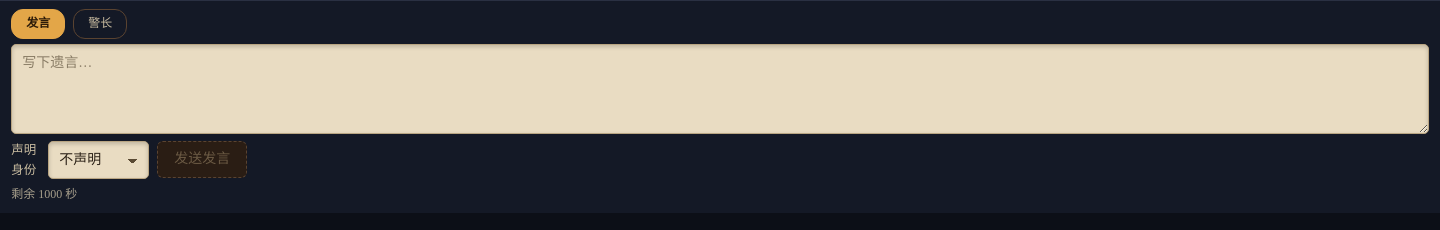
Test: ActionBar › 死亡警长的普通遗言窗口不展示移交 / 撕警徽
Expected: the text box named "发言内容" is shown, [11,44,1429,134]
Click the tab "警长" at (100, 24), box [73,9,127,39]
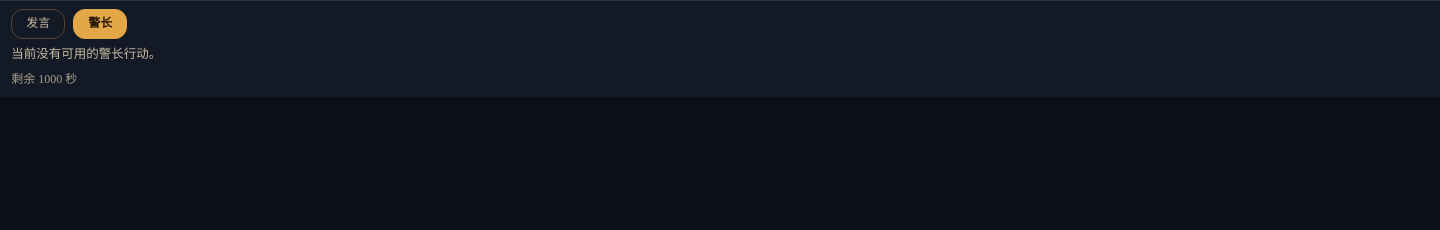
Expected: the text "当前没有可用的警长行动。" is shown, [11,47,161,61]
